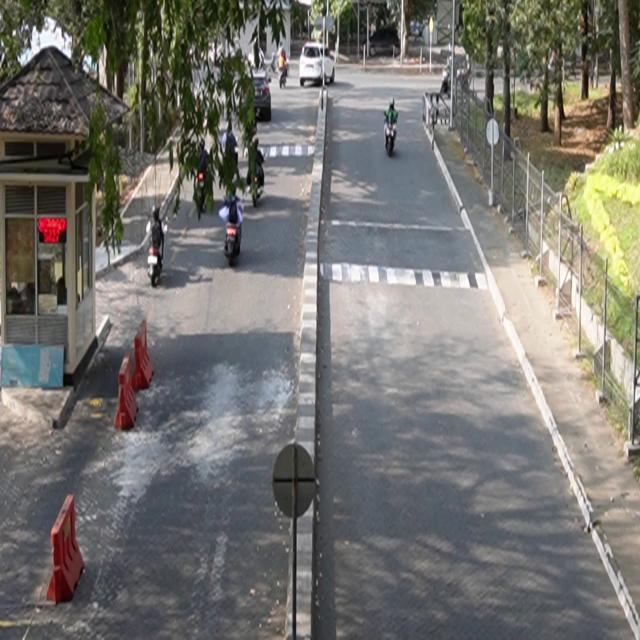car: (300, 42, 336, 87), (365, 27, 402, 59)
